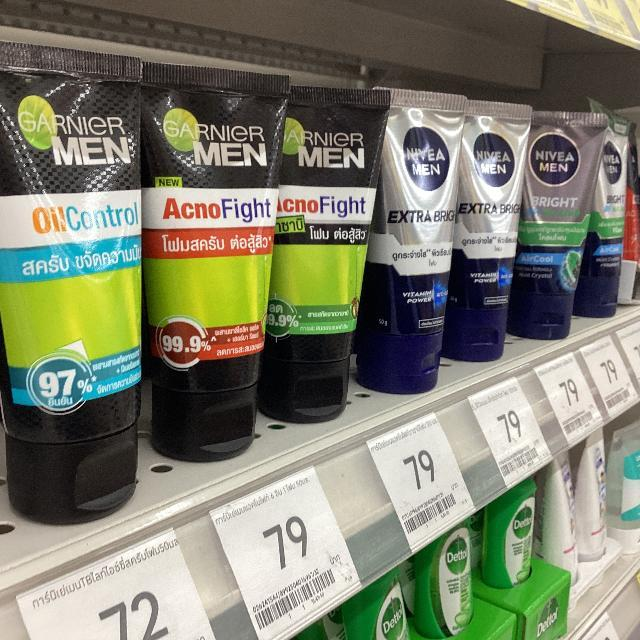Squeeze Tube: (1, 40, 640, 532)
